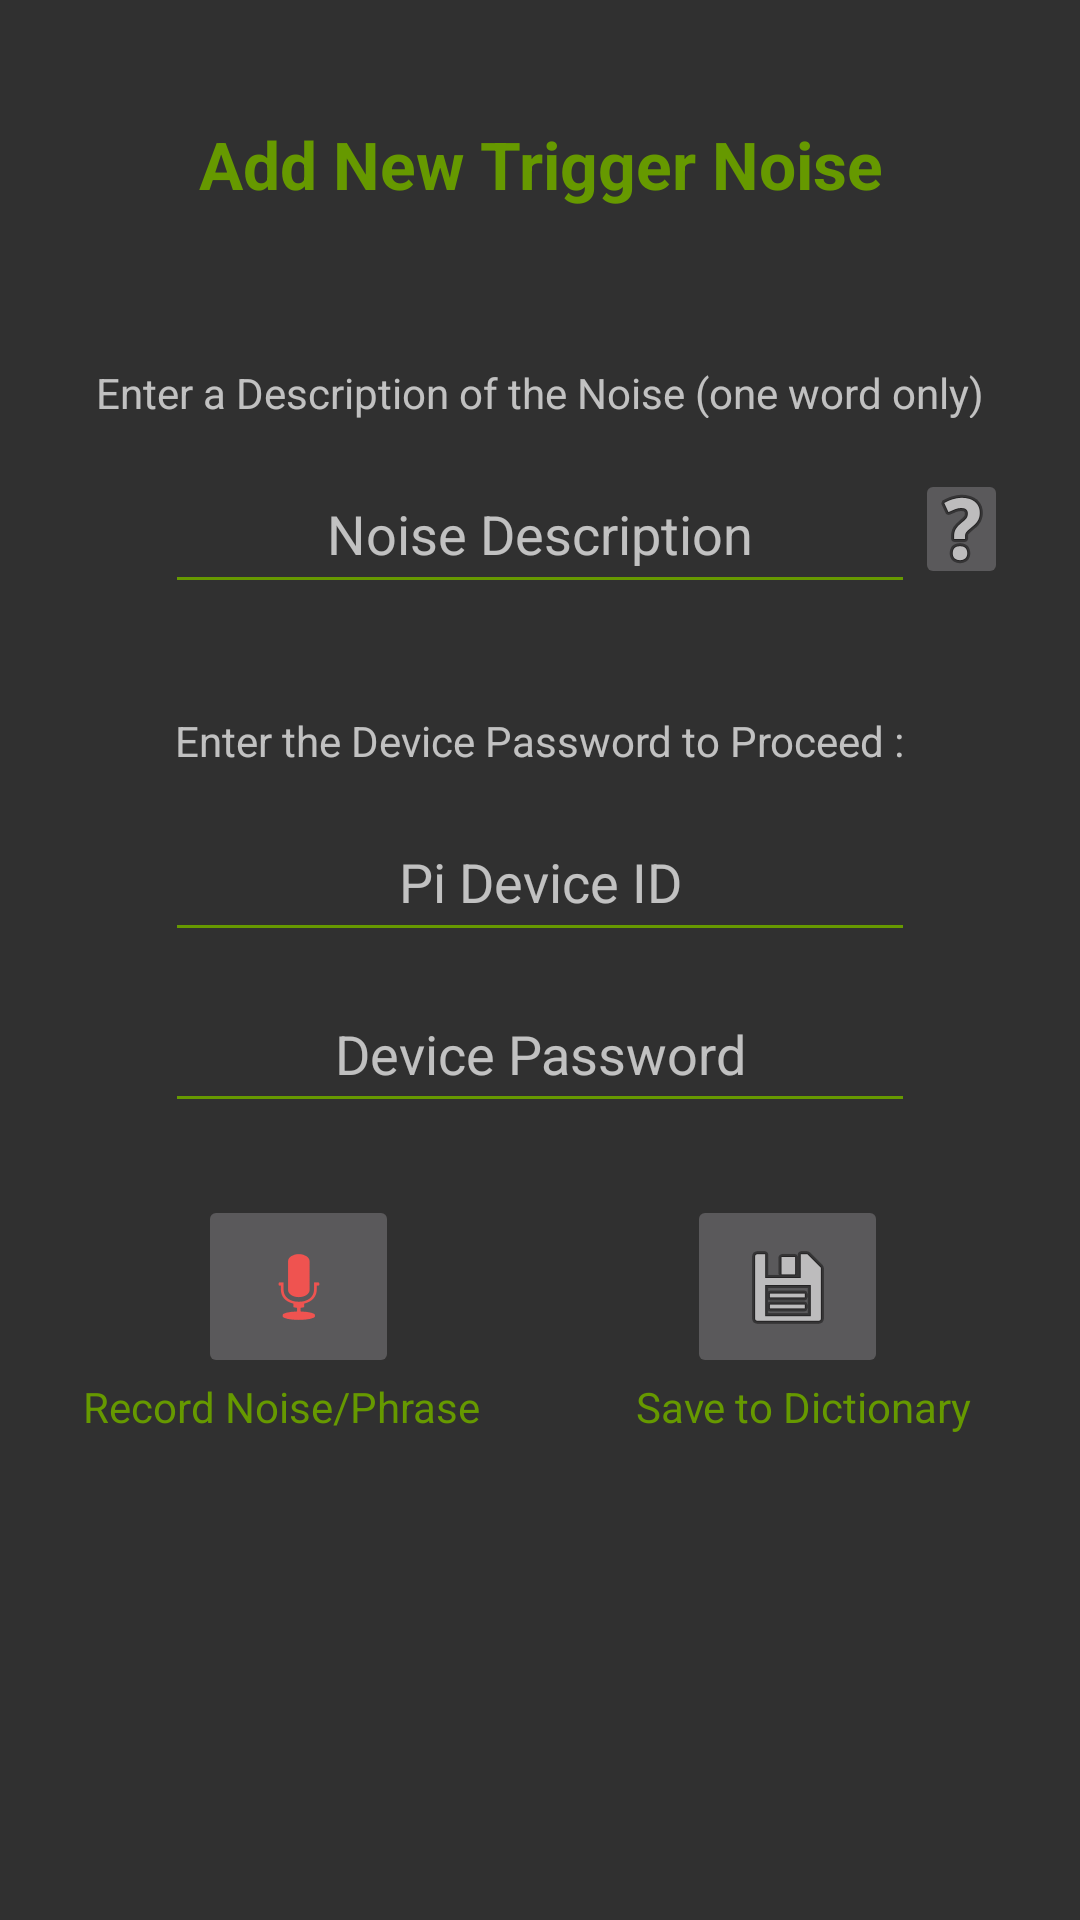

Locate icon controls on the screen. Image size 1080px x 1920px, boxes as [x1, y1, x2, y2].
help: [927, 487, 996, 571]
speak now: [210, 1213, 387, 1360]
